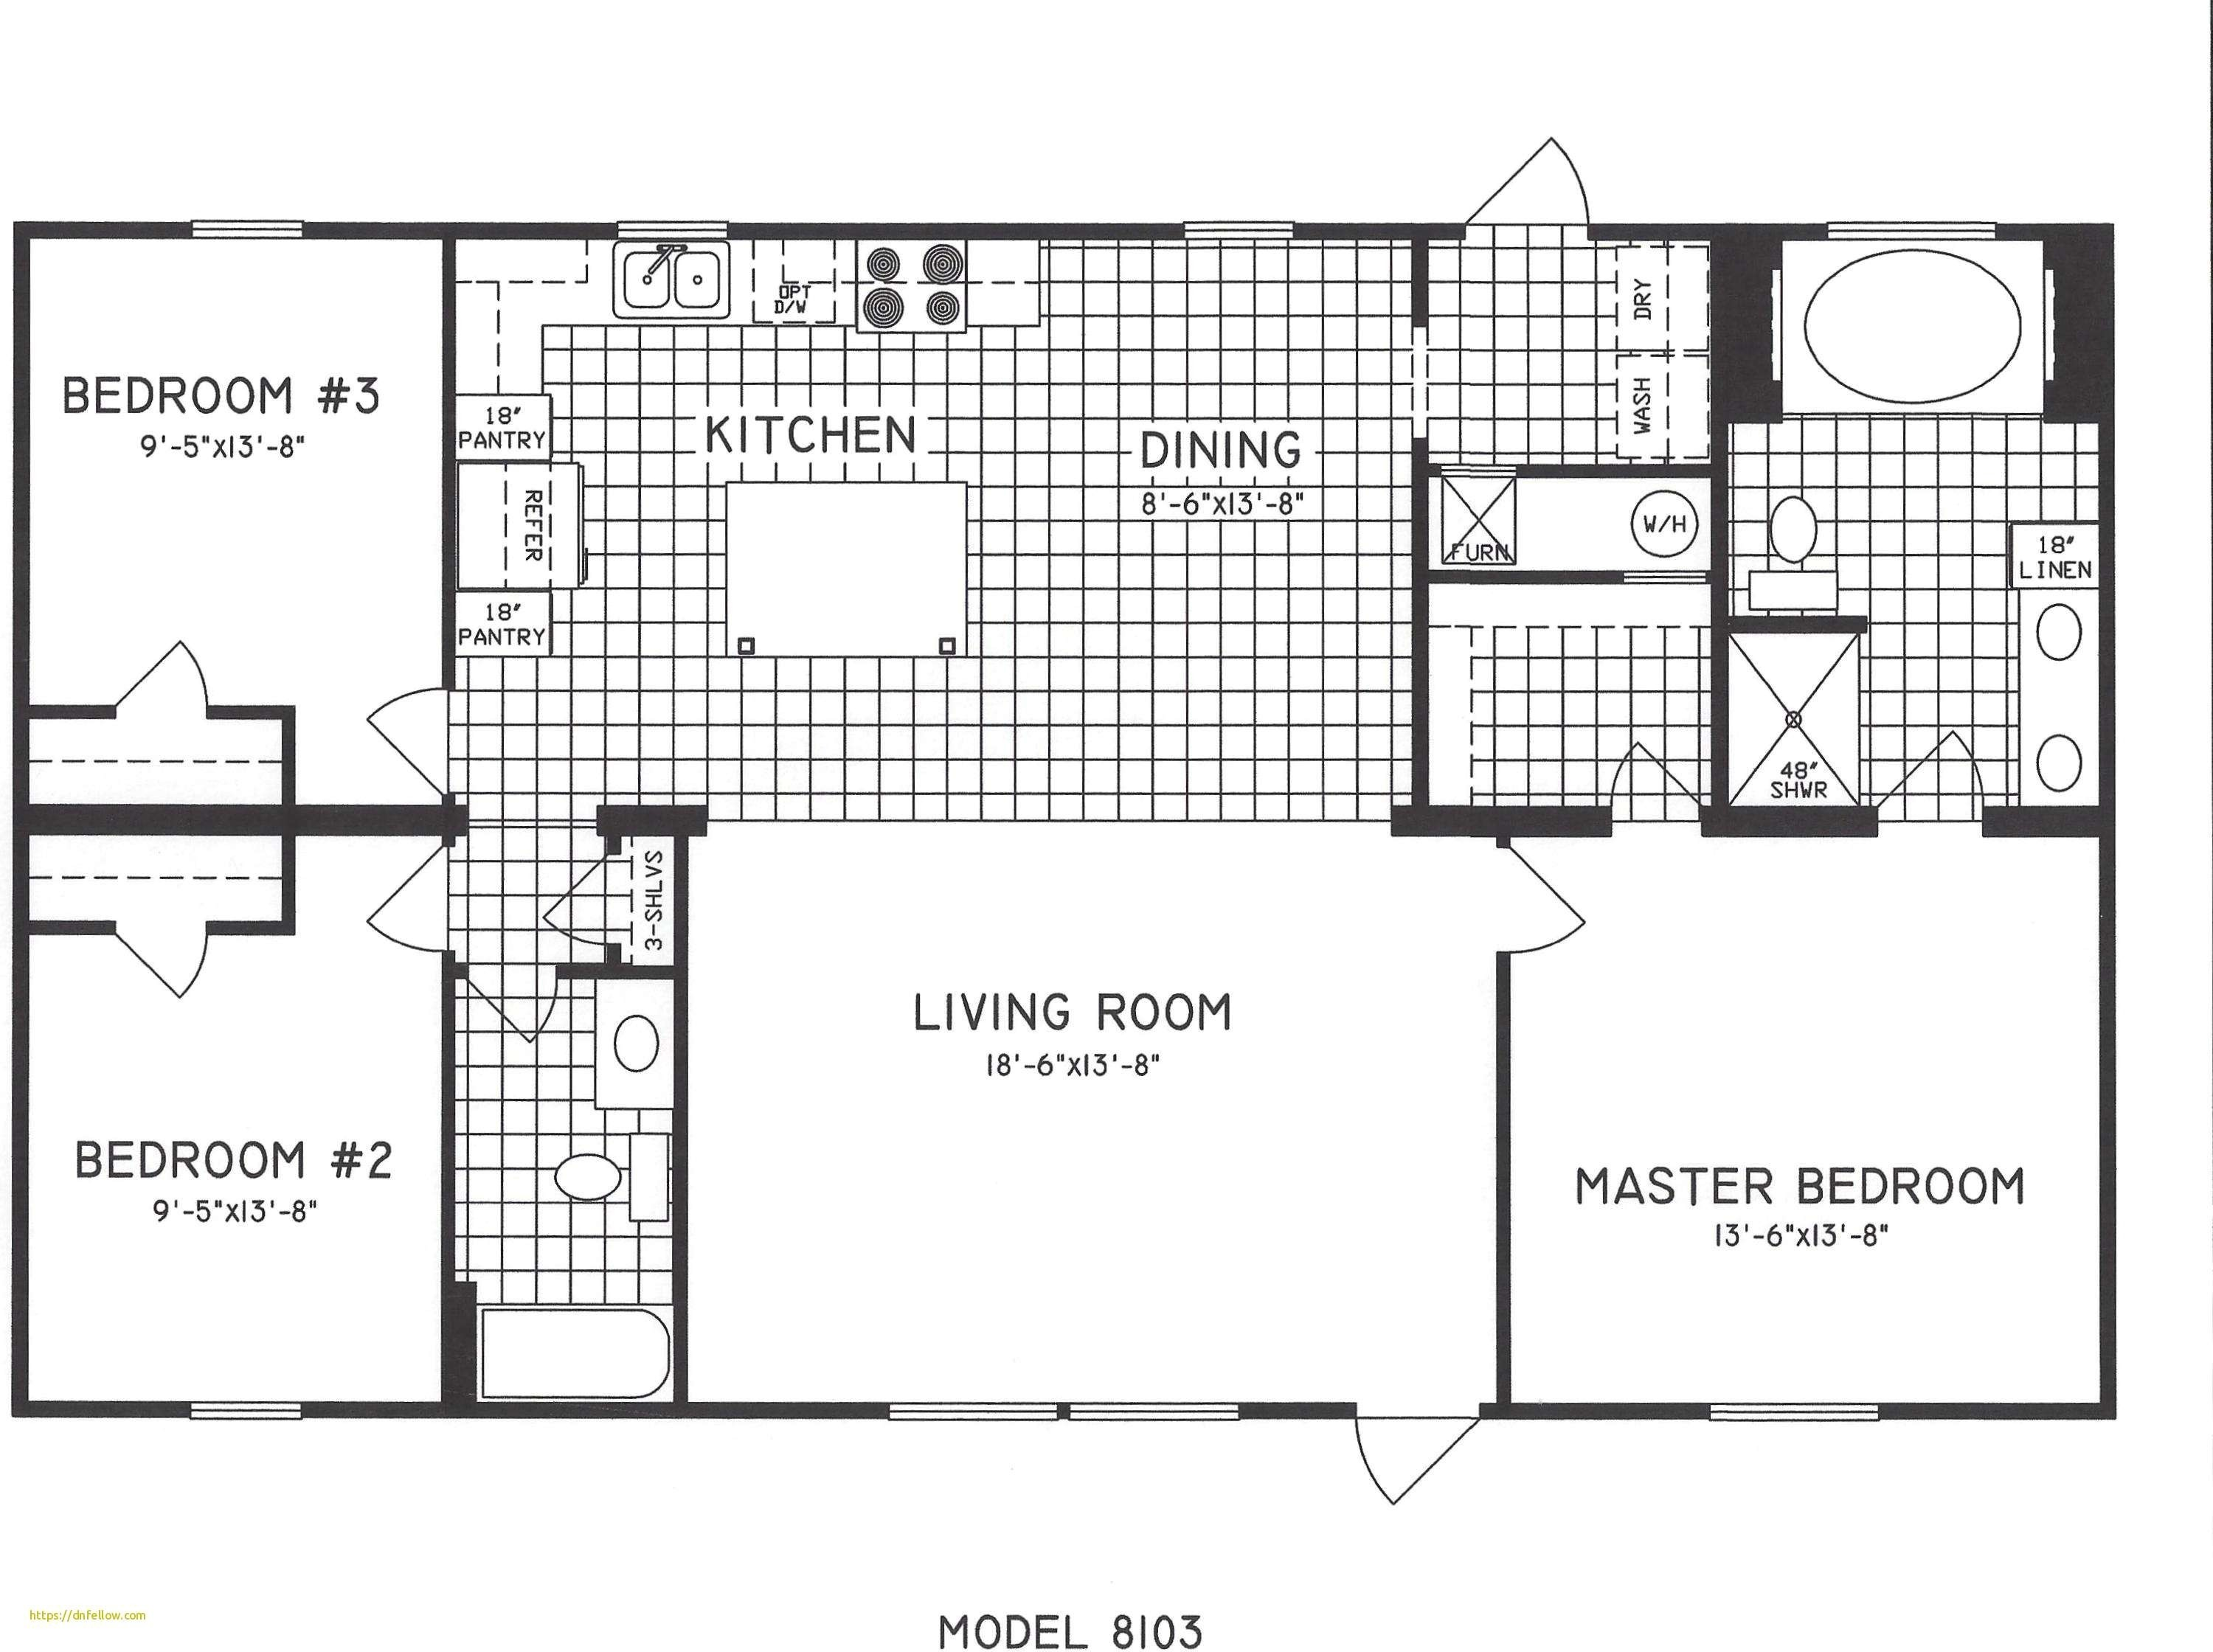door: (1455, 99, 1592, 234), (1333, 1426, 1491, 1515), (342, 665, 453, 788), (338, 847, 437, 972), (1519, 854, 1602, 972), (102, 642, 215, 706), (111, 934, 215, 1003)
room: (443, 233, 1427, 831), (670, 810, 1510, 1425), (1500, 812, 2118, 1416), (10, 220, 456, 824), (1720, 227, 2111, 849), (1411, 233, 1732, 829)
window: (1083, 1376, 1227, 1454), (894, 1386, 1066, 1445), (193, 1385, 304, 1445), (1711, 1397, 1880, 1437), (191, 198, 295, 257), (1191, 203, 1298, 257), (611, 203, 729, 239)
